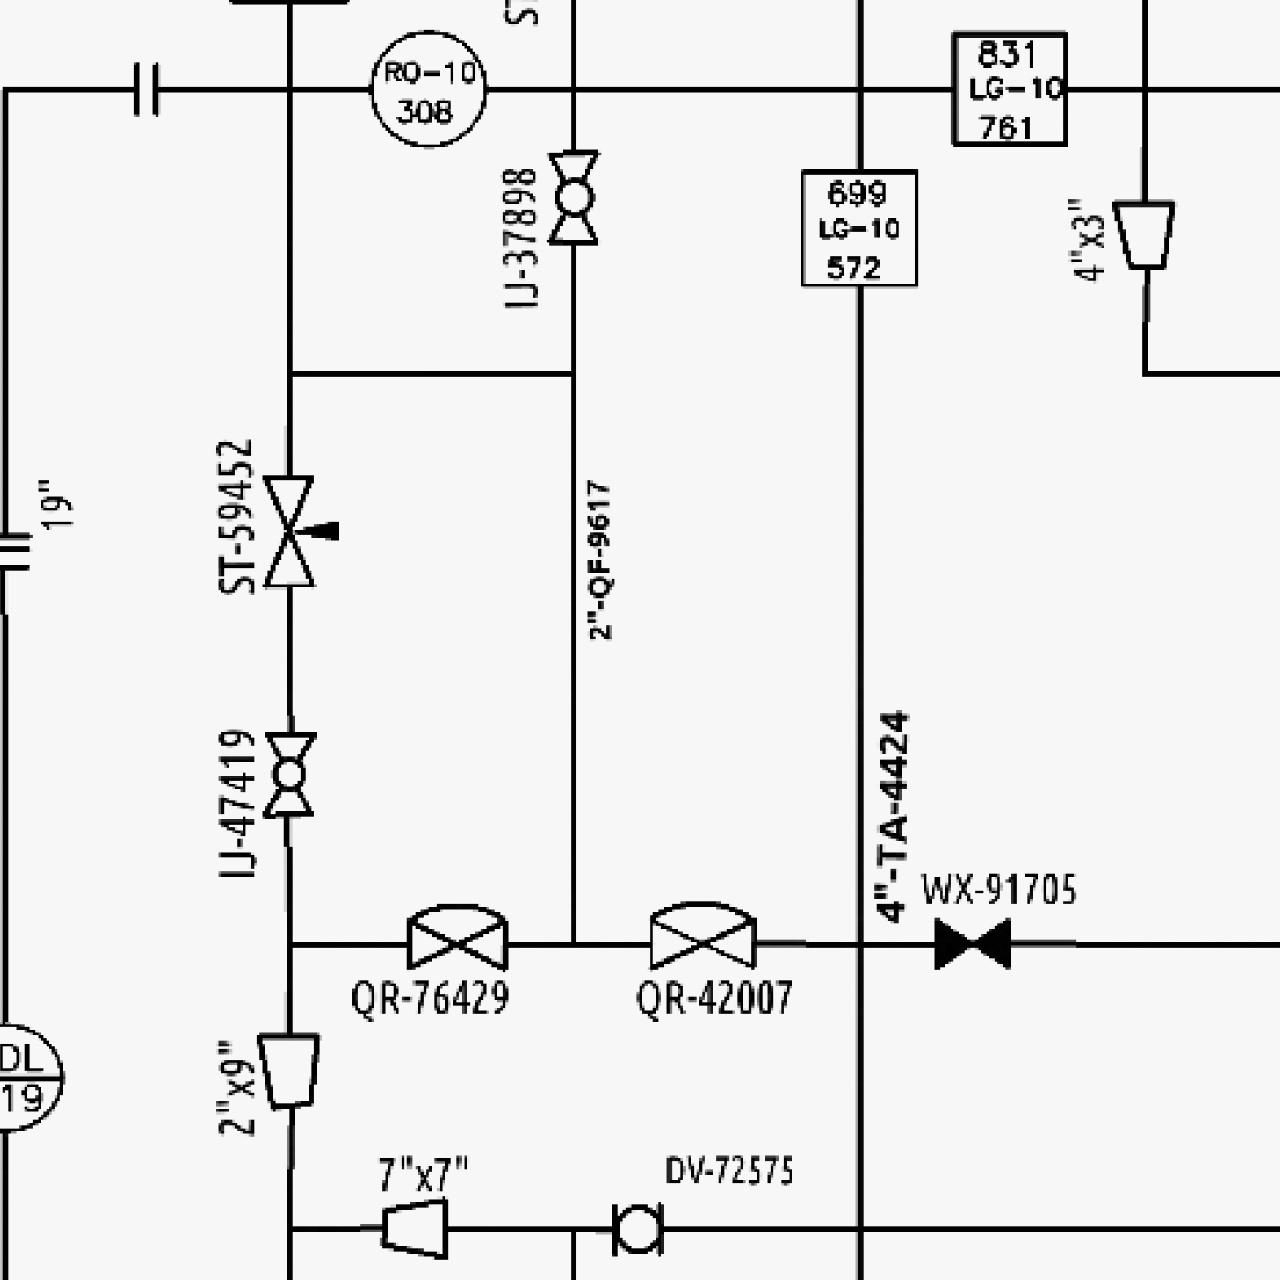Control-Panel: (365, 23, 491, 151)
